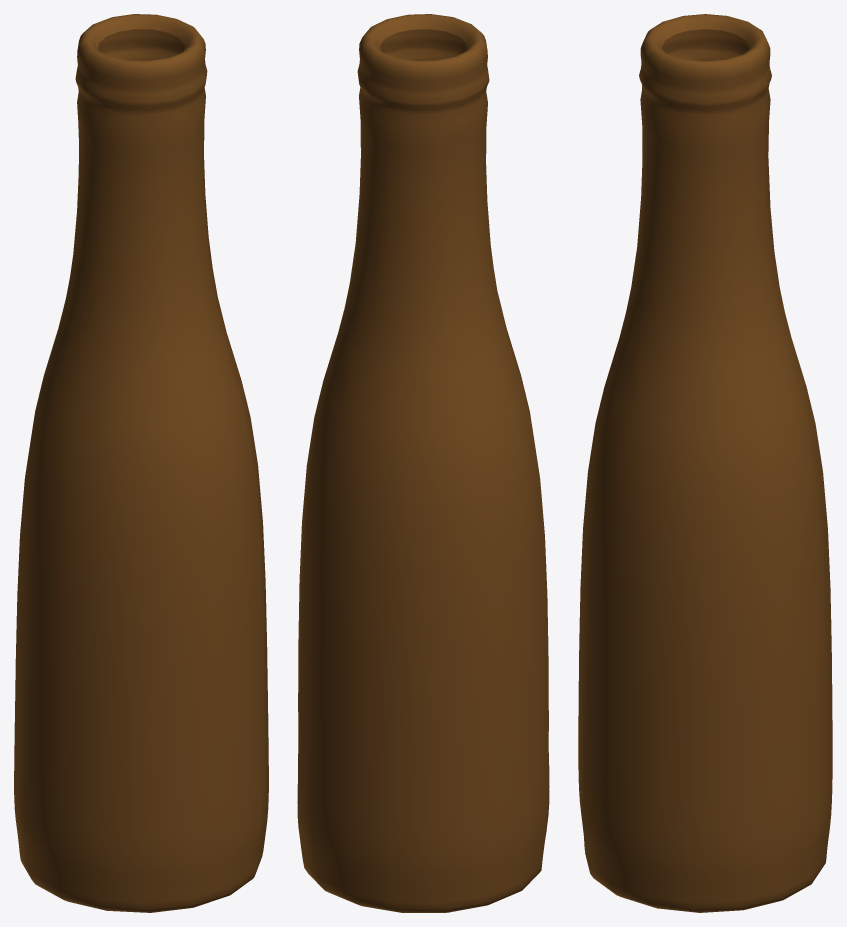
The model's file is glass bottle.fbx.
3 renders of one model, left to right at view 1: azimuth 30°, elevation 25°; view 2: azimuth 150°, elevation 25°; view 3: azimuth 270°, elevation 25°, orthographic.
Parts seen in each view (by area): view 1: Bottle.001; view 2: Bottle.001; view 3: Bottle.001.
Part boxes in pixels (bbox=[...]): Bottle.001: bbox=[14, 14, 268, 912]; Bottle.001: bbox=[297, 14, 549, 912]; Bottle.001: bbox=[578, 14, 832, 912].
Bounding box in the file's own units: 11 × 39.83 × 11.
